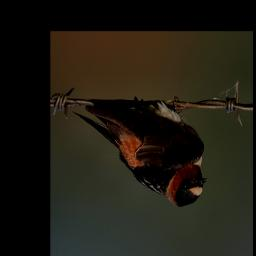Swallow: (71, 96, 208, 209)
